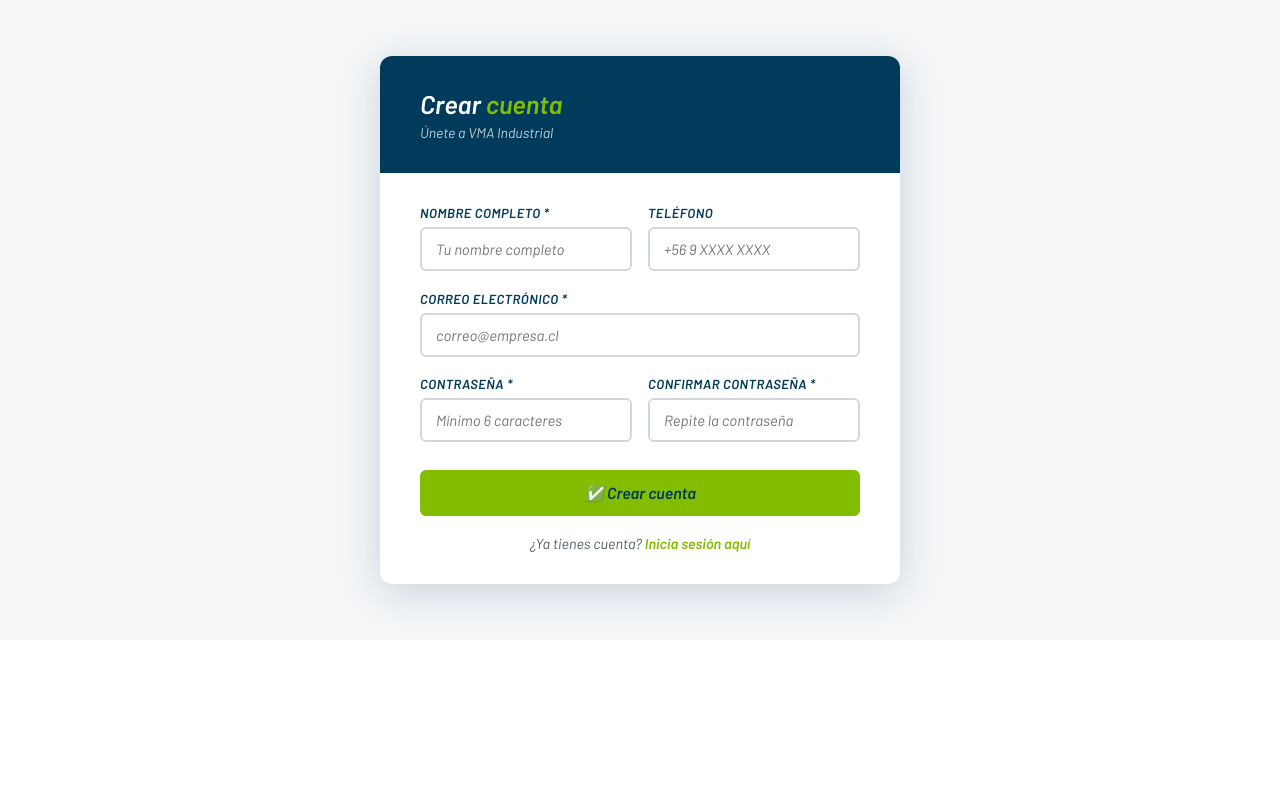
Test: Página Registro — validaciones › muestra error si se envía el formulario vacío
Click the button "✅ Crear cuenta".
click(640, 493)  # box [420, 470, 860, 516]
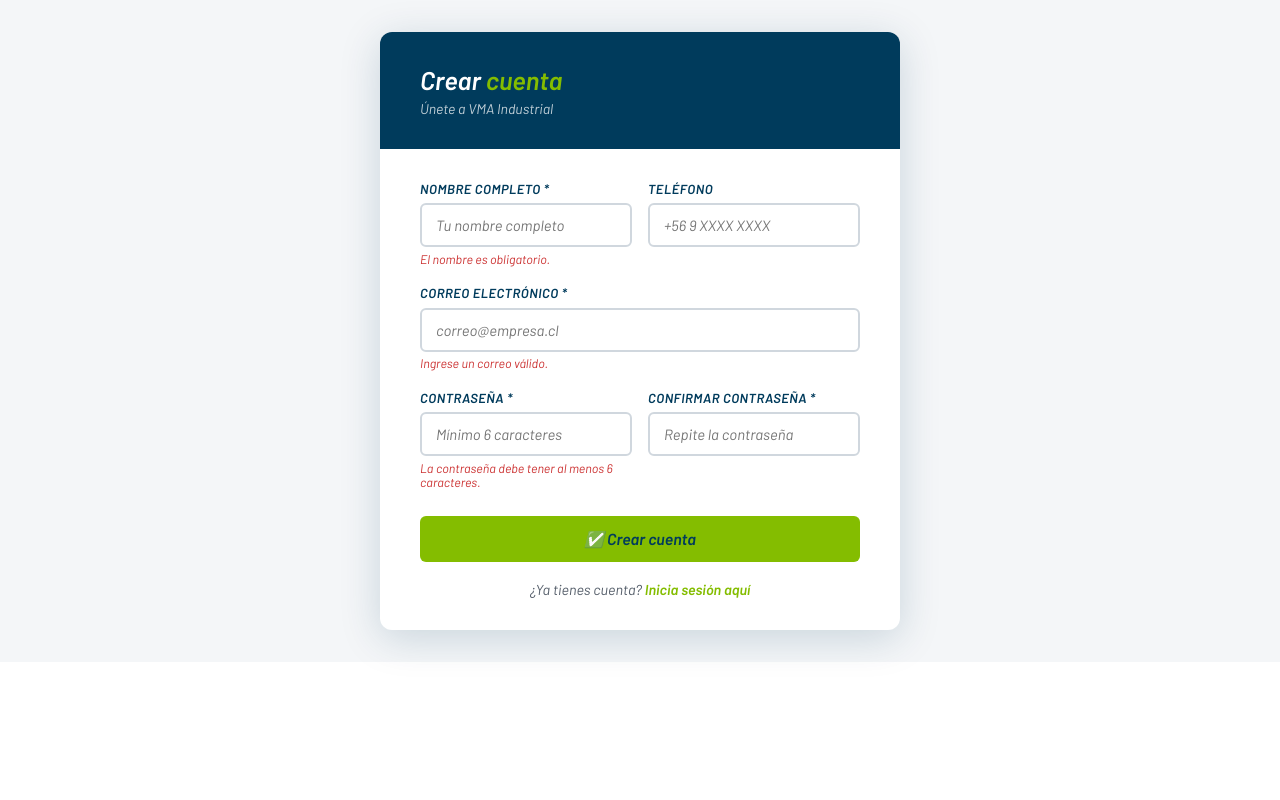
Result: the text "El nombre es obligatorio." is shown at [420, 252, 550, 266]
